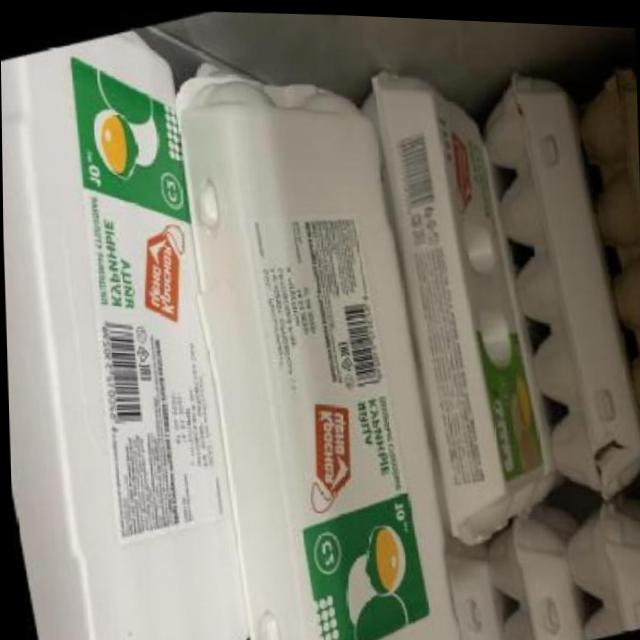Egg: (143, 18, 463, 640), (0, 14, 276, 640), (362, 38, 553, 554), (569, 49, 640, 525), (554, 484, 640, 639), (483, 509, 582, 640)
